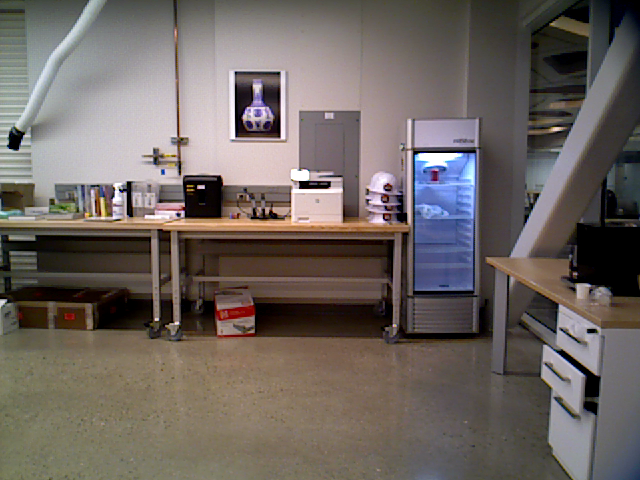painting2: (227, 70, 289, 141)
